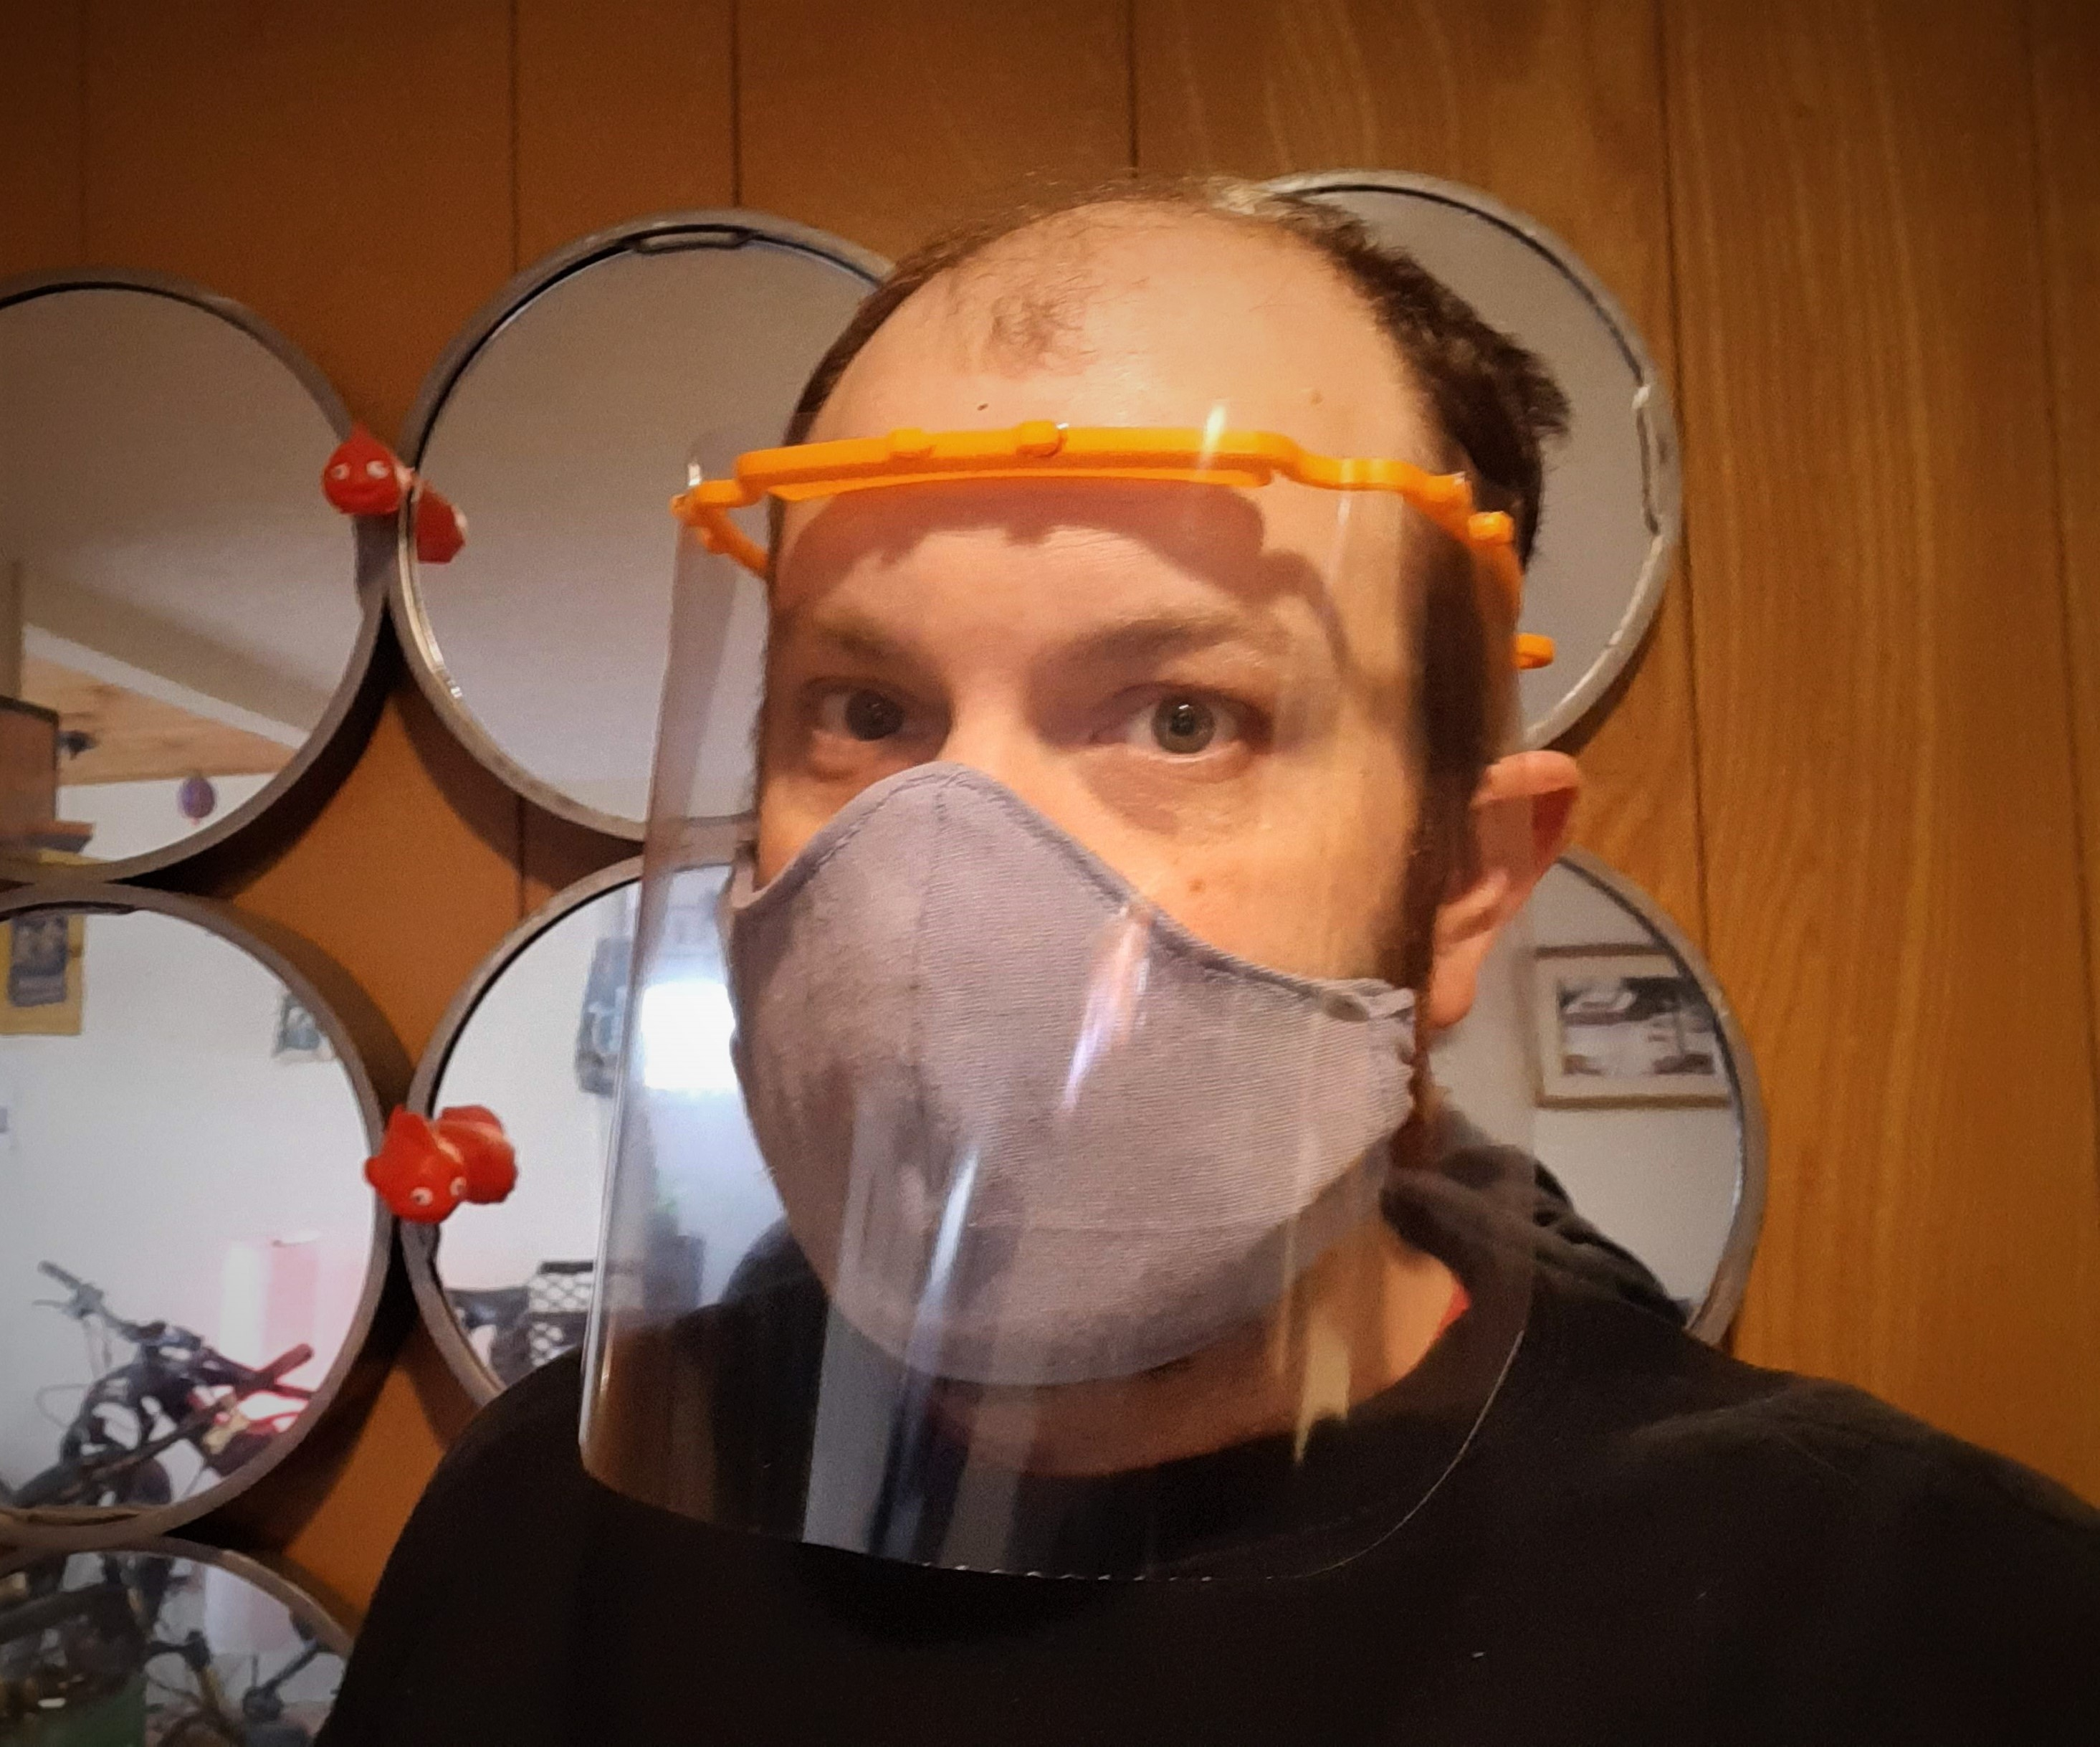face_with_mask: (593, 204, 1529, 1404)
